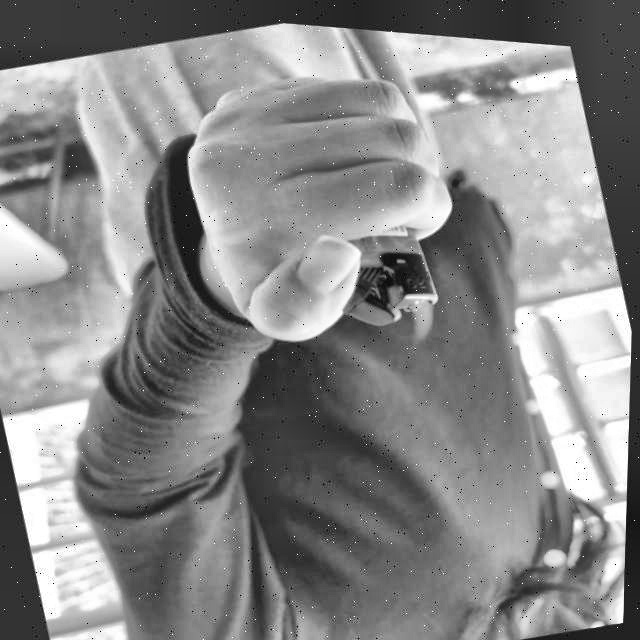Fire: (406, 289, 440, 337)
